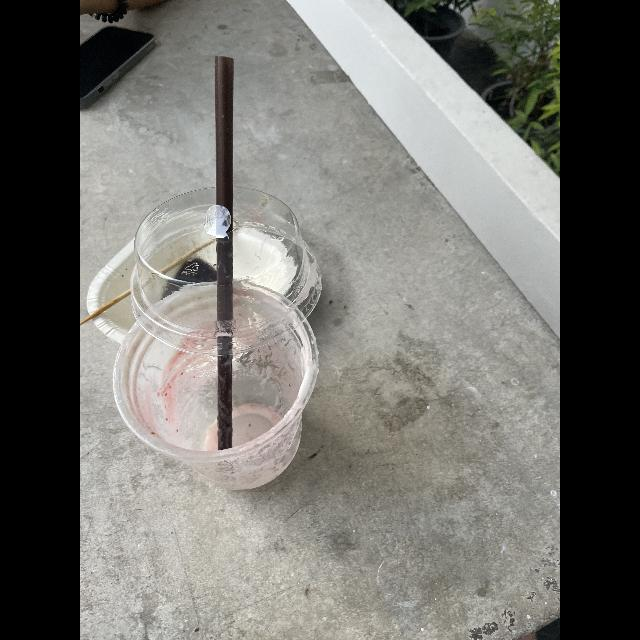plastic_cup: (109, 284, 321, 496)
plastic_cup_lid: (120, 184, 330, 358)
straw: (200, 38, 248, 456)
